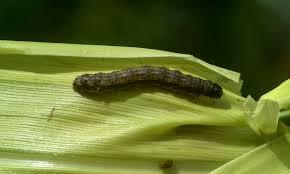fallarmy_worm: (71, 65, 228, 101)
